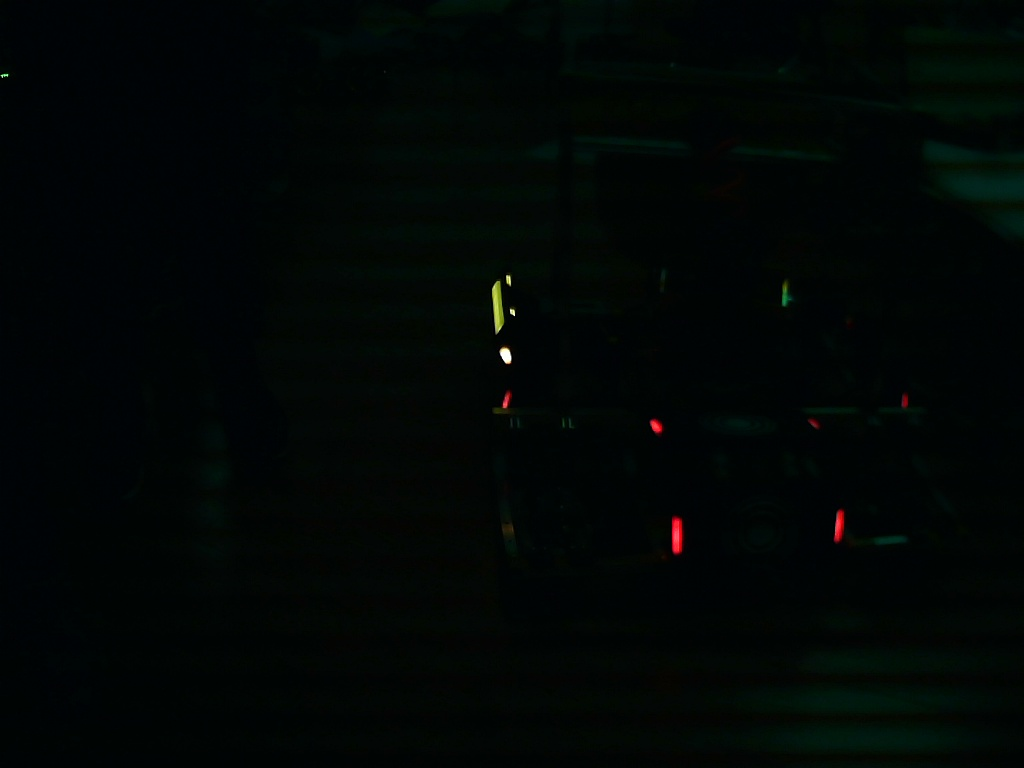lamp: (664, 513, 687, 559), (828, 508, 848, 545)
